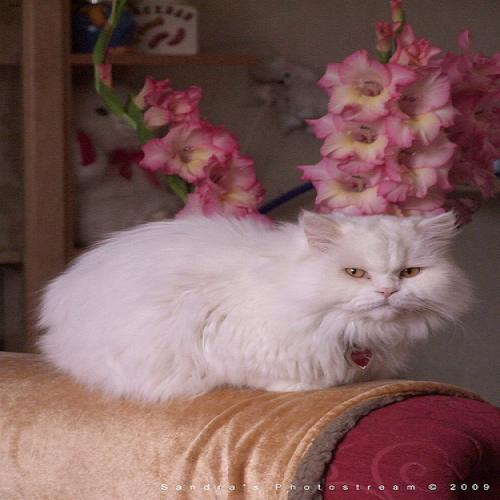persian: (292, 206, 468, 334)
